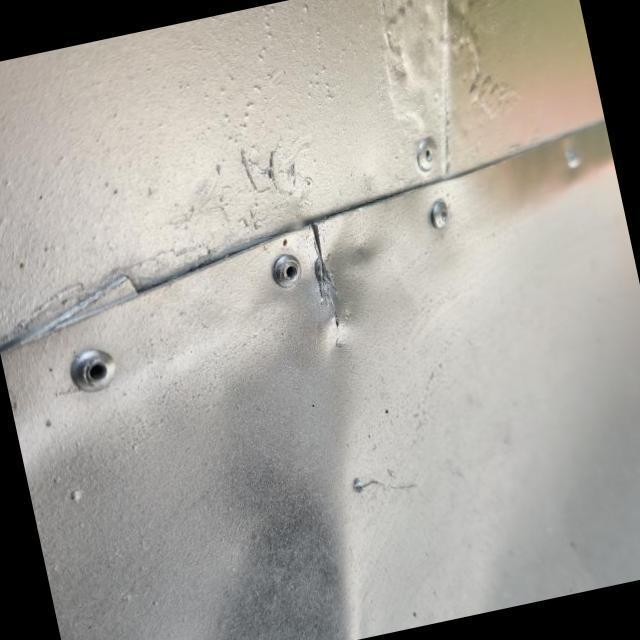Dent: (78, 221, 491, 640)
Rupture: (268, 192, 385, 345)
